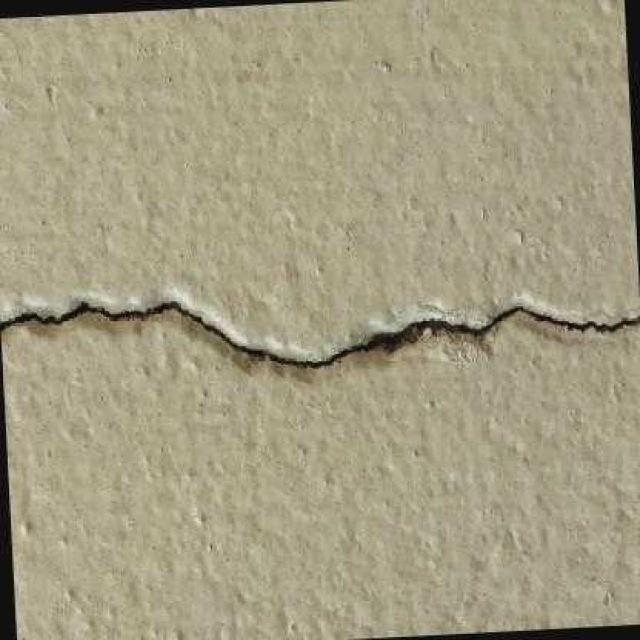D00: (0, 298, 640, 367)
